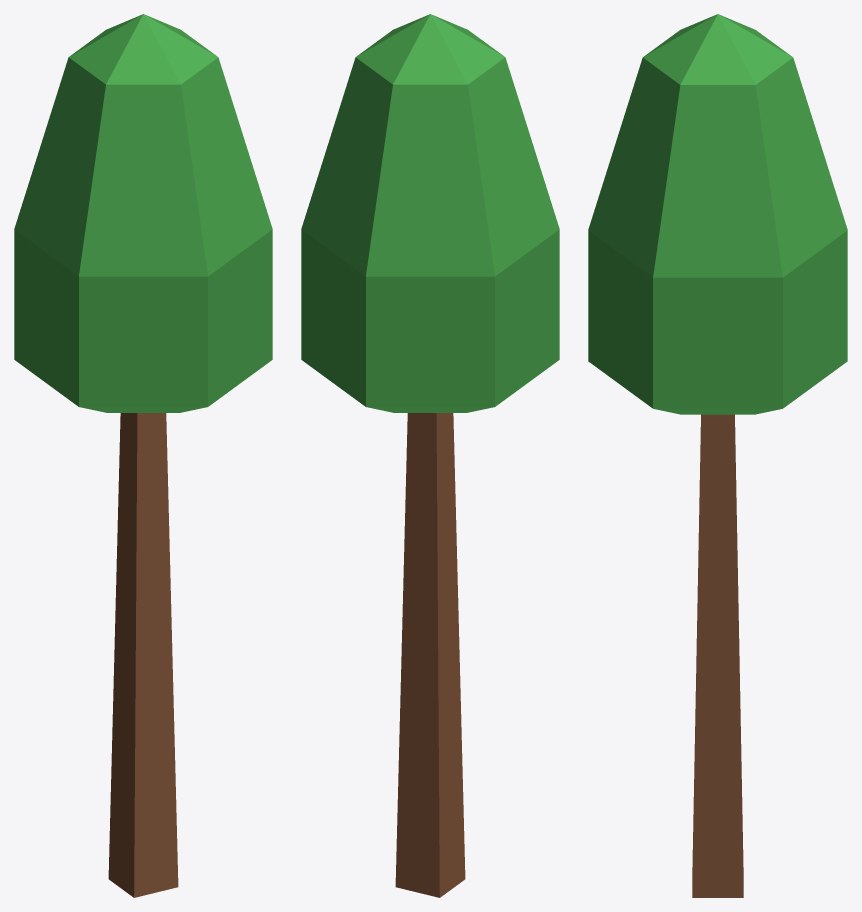
File: tree_11.fbx
The picture shows the model from 3 angles, left to right: view 1: azimuth 30°, elevation 25°; view 2: azimuth 150°, elevation 25°; view 3: azimuth 270°, elevation 25°; orthographic projection.
Visible parts, largest first — view 1: tree_11; view 2: tree_11; view 3: tree_11.
Part boxes in pixels (<box>): tree_11: <box>14,14,272,897</box>; tree_11: <box>301,14,559,897</box>; tree_11: <box>588,14,847,897</box>.
Size of the model in its own units: 0.3546 by 1.52 by 0.4095.
Materials: 1 (1 with a texture image).
